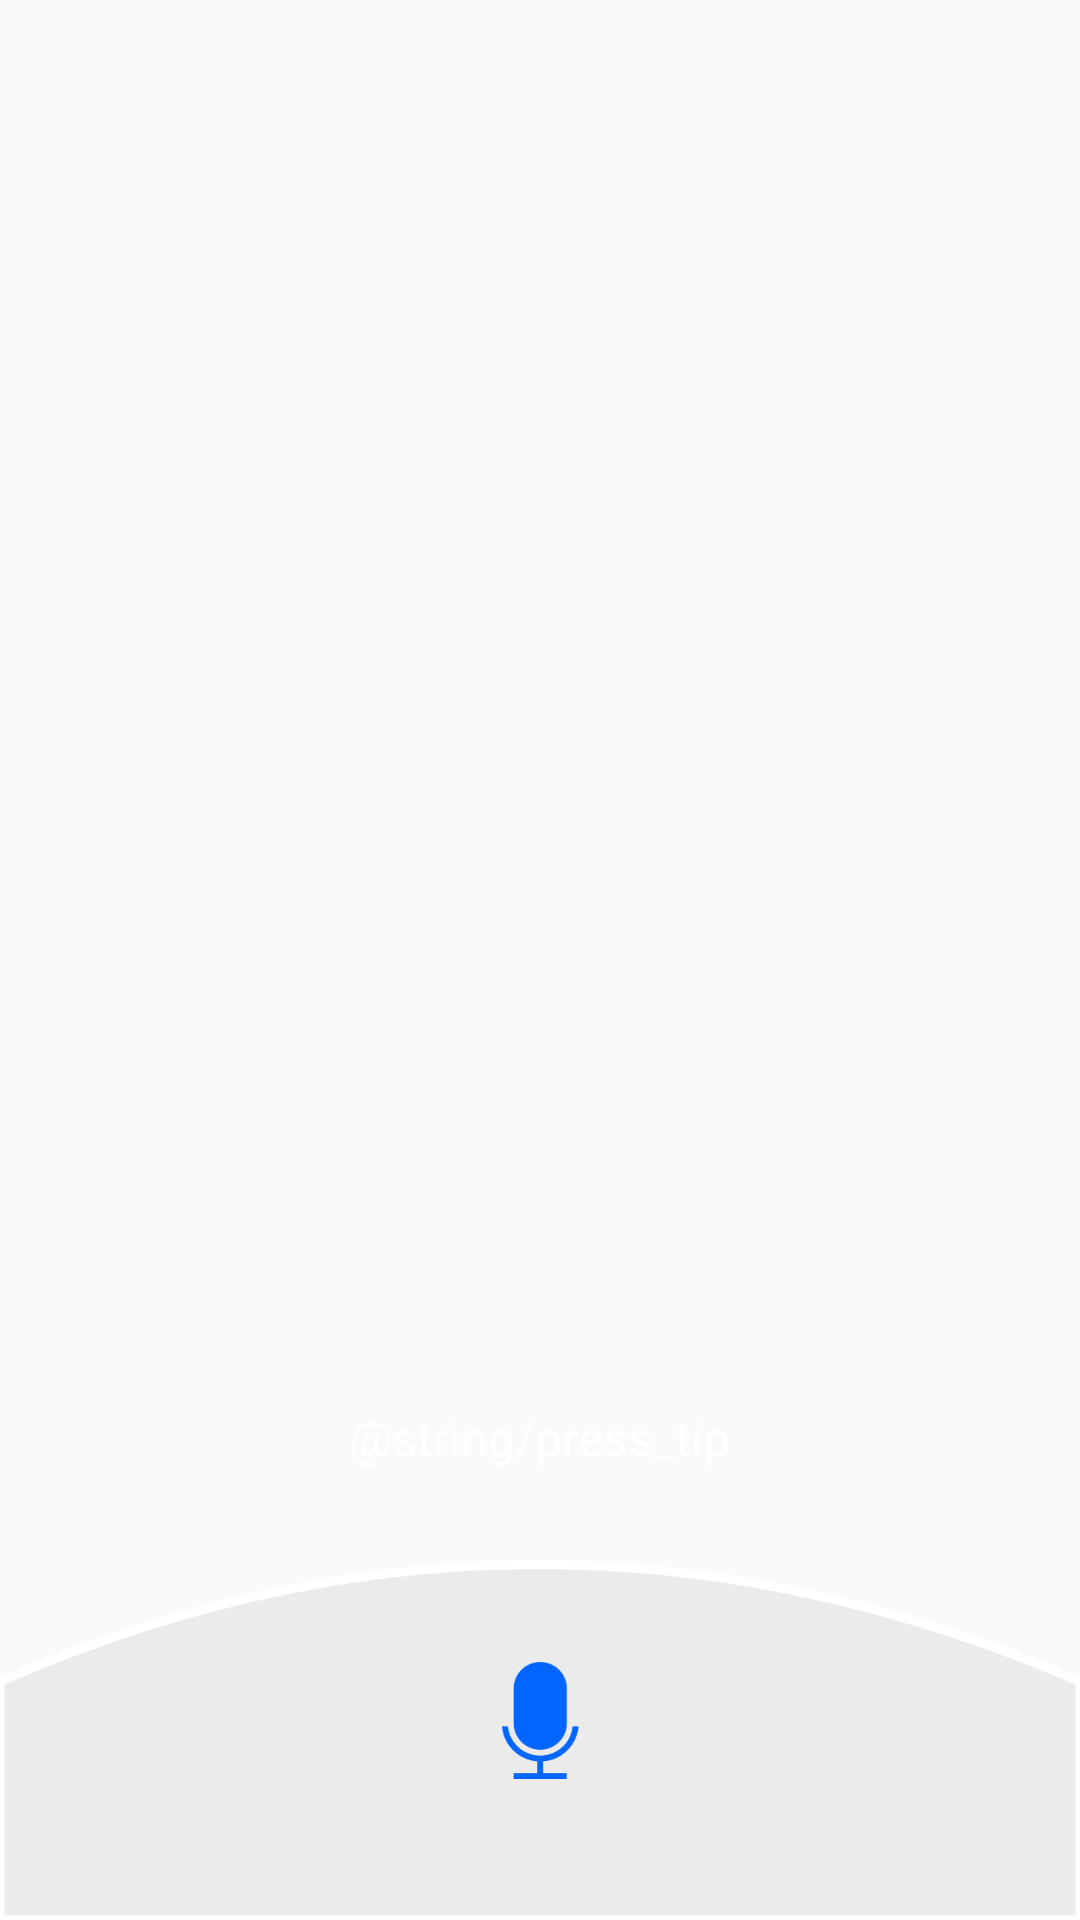

Point at icon controls on the screen. Image size 1080 x 1920, points as (x,y).
mic: (540,1720)
